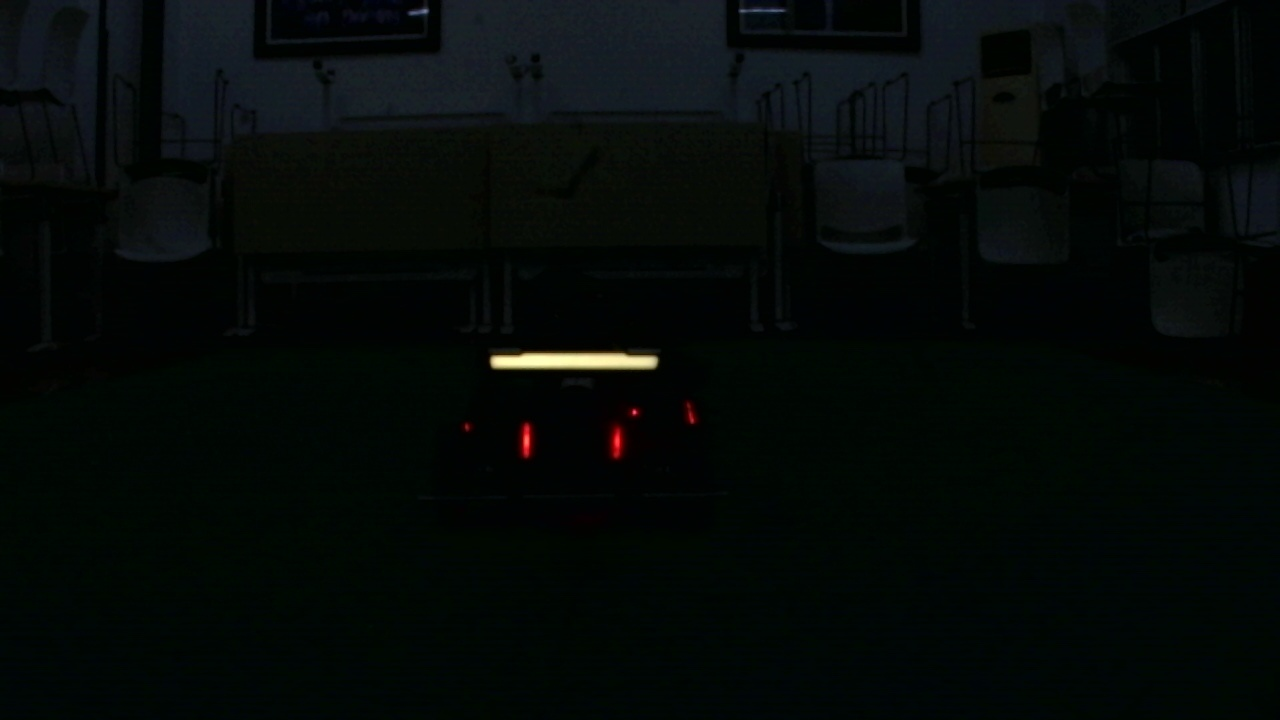lamp: (607, 428, 622, 459), (522, 422, 534, 455)
pair1: (520, 418, 624, 459)
